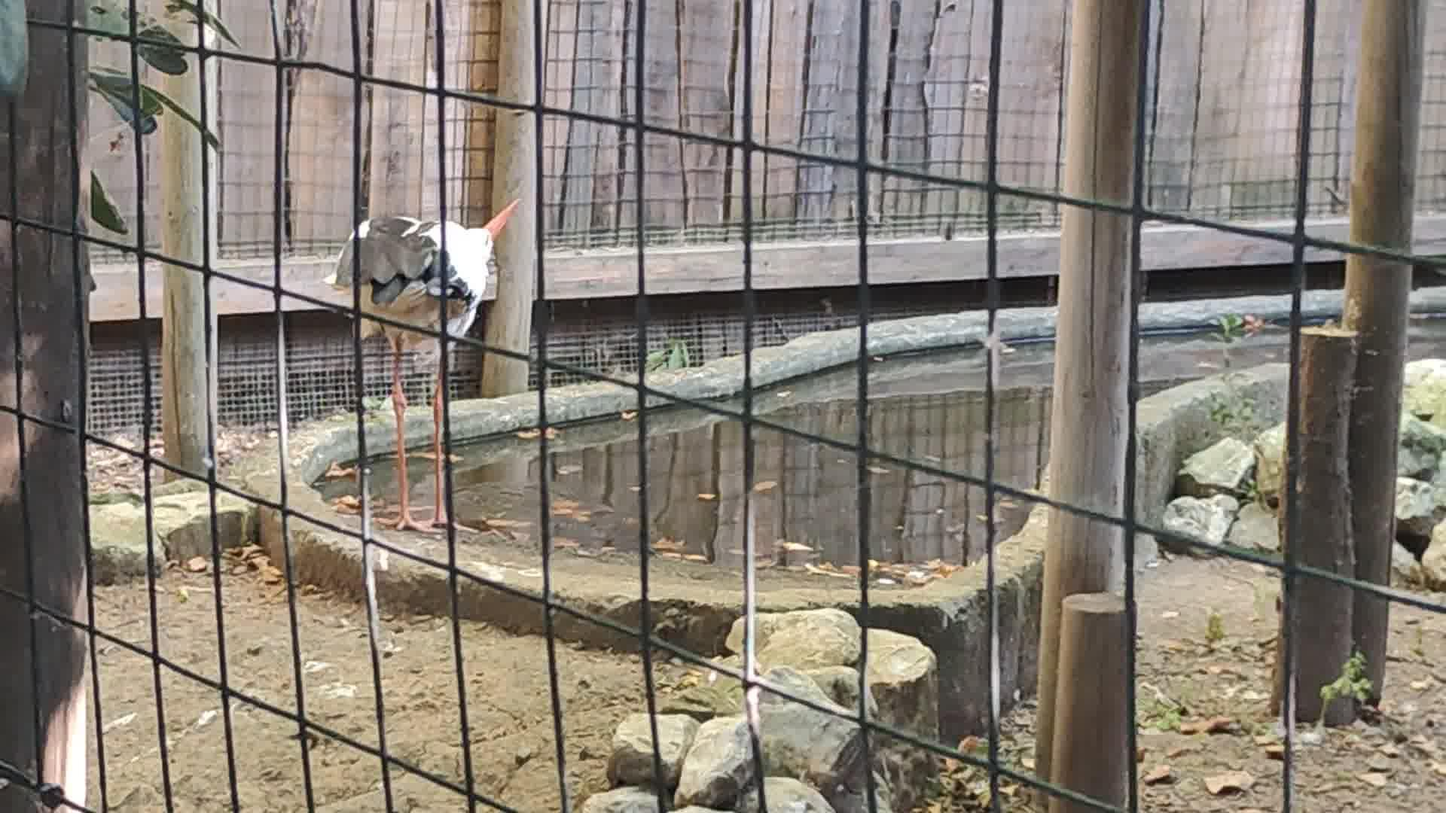apple: (321, 199, 522, 535)
